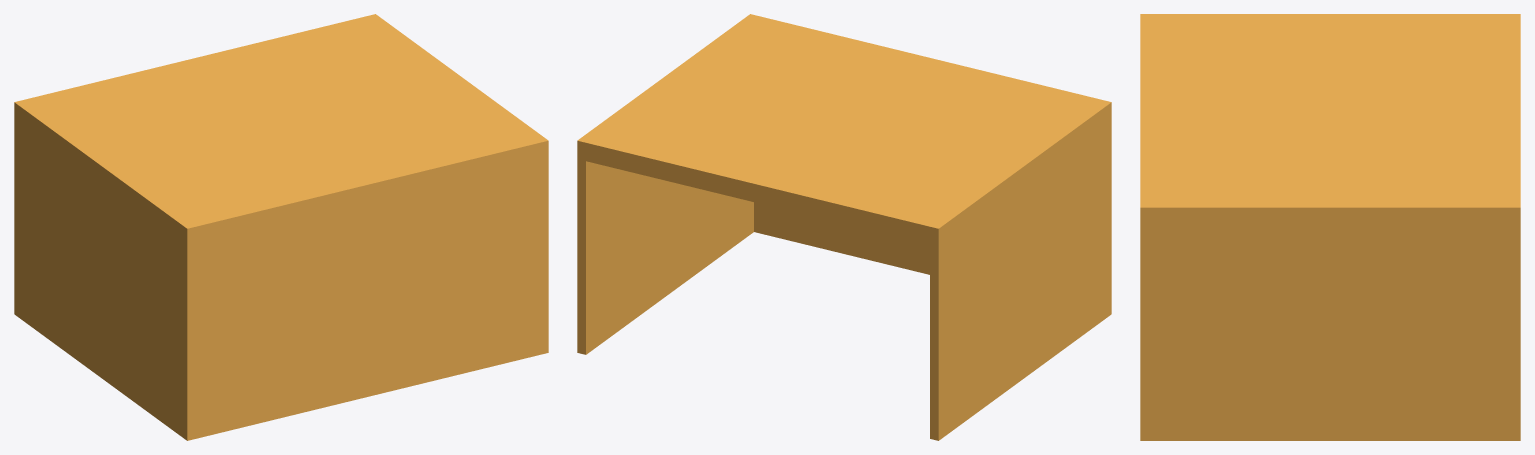
Rendered from Desk5-1.fbx.
3 renders of one model, left to right at view 1: azimuth 30°, elevation 25°; view 2: azimuth 150°, elevation 25°; view 3: azimuth 270°, elevation 25°, orthographic. The views are drawn at different scales.
Parts seen in each view (by area): view 1: Desk5-1.000, Desk5-1.001, Desk5-1.008; view 2: Desk5-1.001, Desk5-1.008, Desk5-1.002, Desk5-1.000; view 3: Desk5-1.001, Desk5-1.002, Desk5-1.000.
Boxes of the visible parts, bbox=[...] form: Desk5-1.000: bbox=[182, 159, 548, 440]; Desk5-1.001: bbox=[14, 14, 548, 247]; Desk5-1.008: bbox=[14, 121, 182, 436]; Desk5-1.001: bbox=[577, 14, 1111, 247]; Desk5-1.008: bbox=[930, 124, 1106, 440]; Desk5-1.002: bbox=[577, 159, 753, 354]; Desk5-1.000: bbox=[754, 121, 1111, 317]; Desk5-1.001: bbox=[1140, 14, 1520, 227]; Desk5-1.002: bbox=[1151, 228, 1520, 440]; Desk5-1.000: bbox=[1140, 228, 1151, 440].
Bounding box in the file's own units: 4.1 × 2.3 × 3.4.
